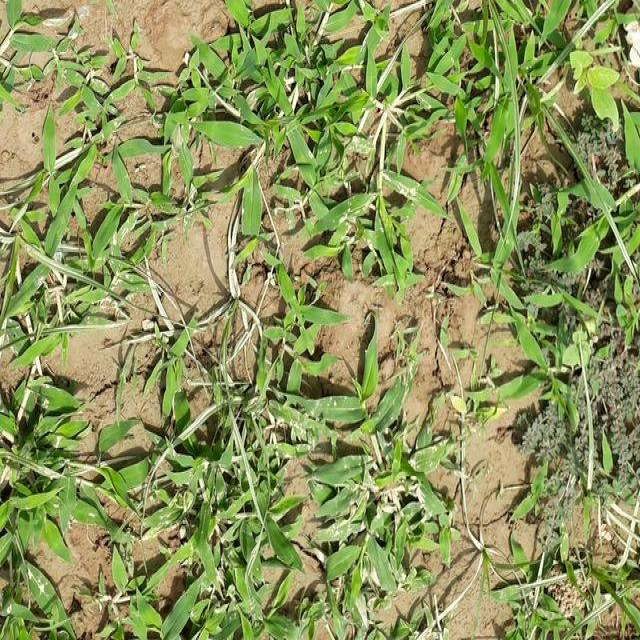weed: (169, 13, 447, 640), (0, 435, 436, 640), (444, 0, 637, 377), (0, 0, 116, 386)
